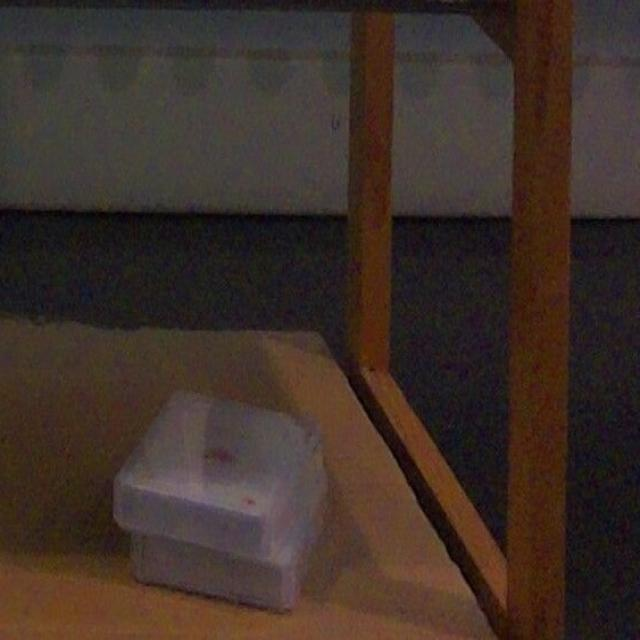Jasskarte: (112, 390, 322, 556), (131, 467, 333, 612)
